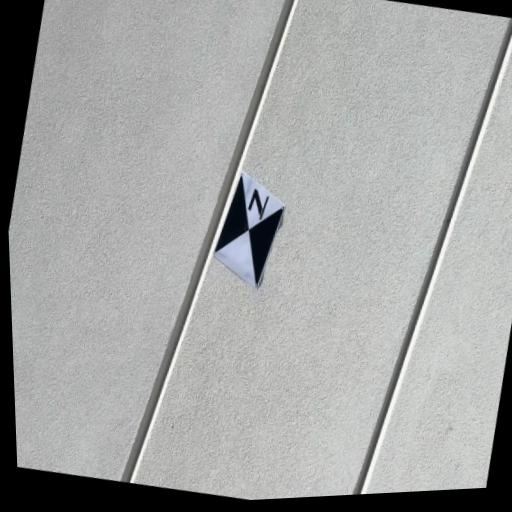target7: (213, 170, 286, 292)
